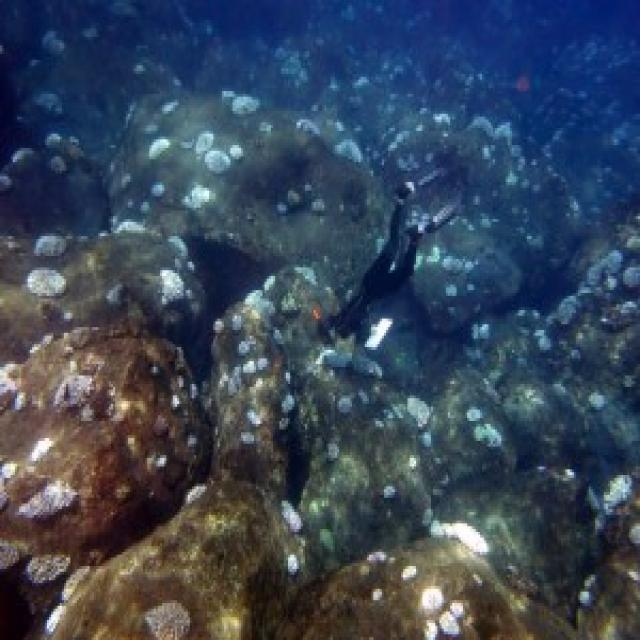Bleached: (421, 503, 494, 559), (589, 476, 640, 541), (419, 580, 472, 640), (137, 599, 196, 640), (464, 403, 507, 449), (17, 487, 78, 518), (30, 551, 71, 589), (24, 269, 72, 300), (61, 566, 94, 604), (357, 548, 395, 577), (276, 494, 304, 532), (182, 477, 212, 508), (1, 539, 29, 569), (576, 574, 601, 603), (44, 607, 63, 640), (3, 455, 20, 485), (319, 529, 338, 555), (601, 615, 620, 640), (592, 394, 610, 412), (371, 583, 384, 605), (402, 564, 420, 579), (288, 555, 298, 575), (565, 465, 577, 480)
Healthy: (111, 92, 390, 302), (438, 209, 640, 468), (4, 327, 212, 568), (390, 106, 613, 327), (43, 481, 308, 640), (306, 384, 521, 542), (301, 538, 583, 640), (1, 229, 212, 363), (1, 1, 197, 145), (421, 463, 587, 623), (1, 128, 109, 229), (577, 473, 640, 640), (198, 18, 317, 94)
